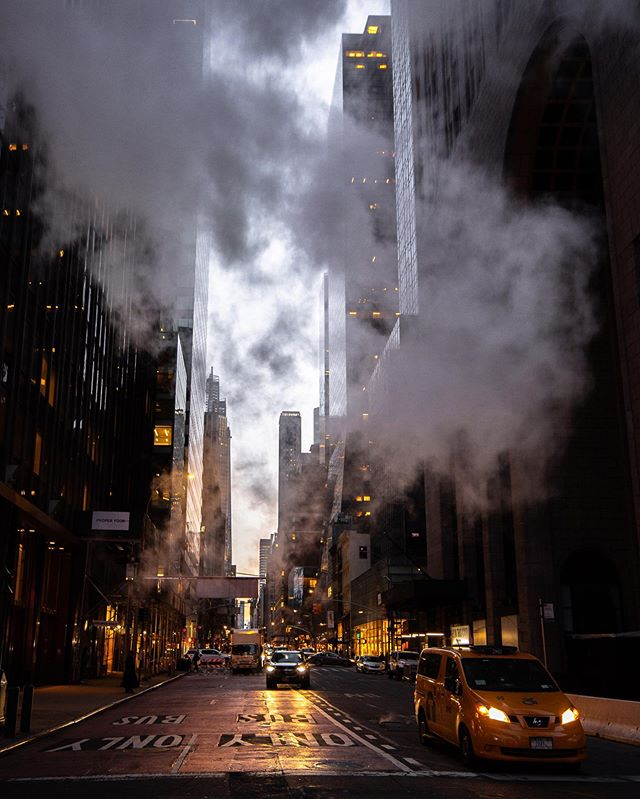building: (393, 13, 640, 687), (1, 1, 196, 664), (310, 33, 393, 649), (270, 404, 311, 639), (205, 368, 242, 628)
car: (399, 637, 600, 766), (257, 650, 315, 689)
street: (1, 665, 640, 795)
